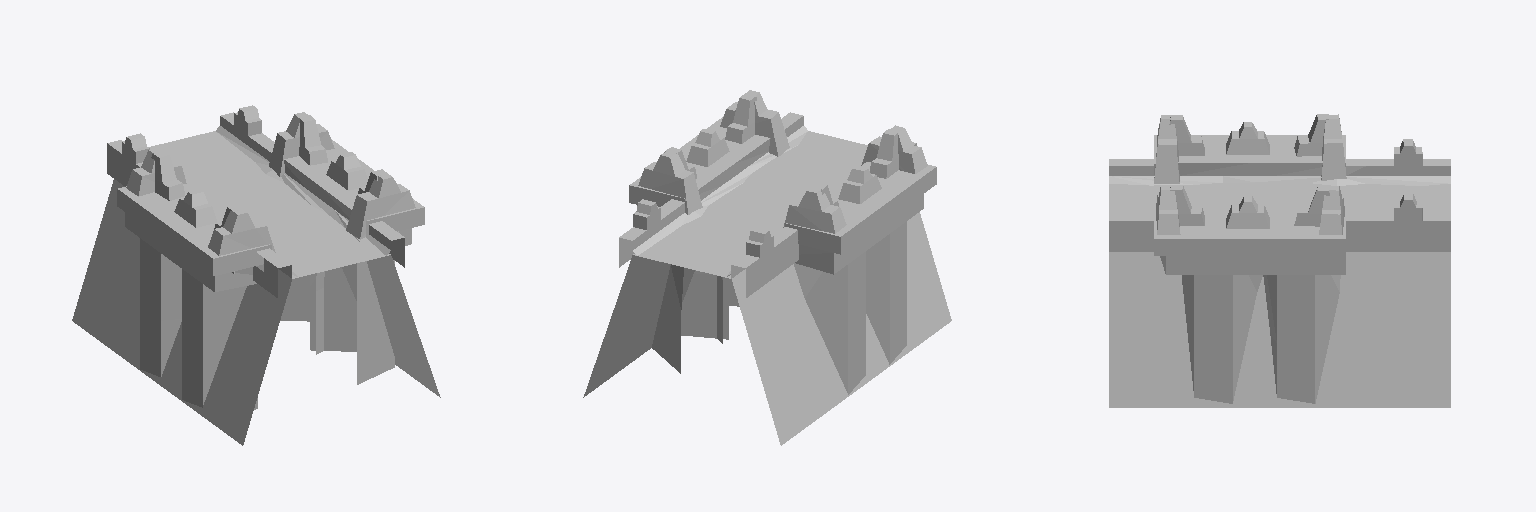
File: templeStraightVert4_prefab.obj
The picture shows the model from 3 angles: view 1: azimuth 30°, elevation 25°; view 2: azimuth 150°, elevation 25°; view 3: azimuth 270°, elevation 25°; orthographic projection.
Visible parts, largest first — view 1: Object90-Pivot; view 2: Object90-Pivot; view 3: Object90-Pivot.
Boxes of the visible parts, <box> form: Object90-Pivot: <box>72,105,440,445</box>; Object90-Pivot: <box>583,90,951,445</box>; Object90-Pivot: <box>1109,114,1450,407</box>.
Bounding box in the file's own units: 42.8 × 40.06 × 60.